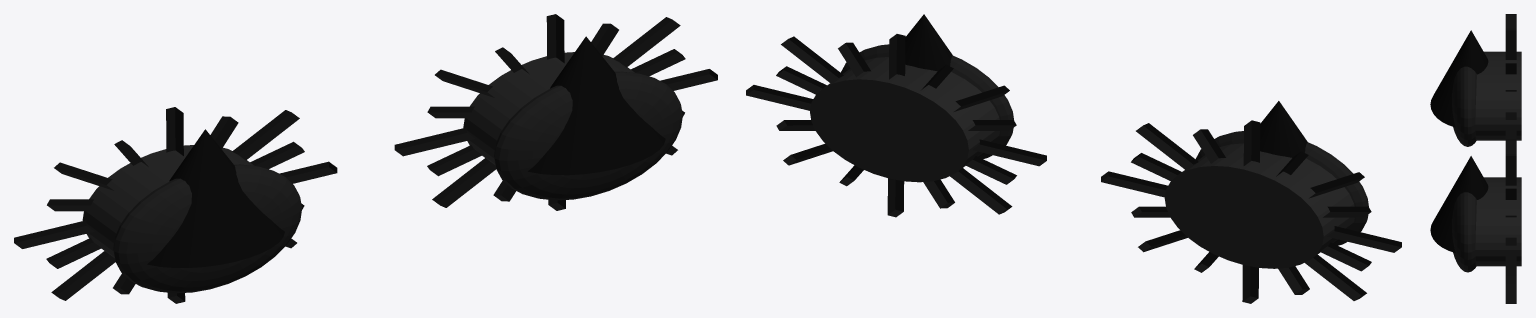
Rendered from Cooker Unit (Oven Buttons 1).fbx.
3 renders of one model, left to right at view 1: azimuth 30°, elevation 25°; view 2: azimuth 150°, elevation 25°; view 3: azimuth 270°, elevation 25°, orthographic. The views are drawn at different scales.
Visible parts, largest first — view 1: Cooker Buttons.001, Cooker Buttons.002; view 2: Cooker Buttons.001, Cooker Buttons.002; view 3: Cooker Buttons.002, Cooker Buttons.001.
Boxes of the visible parts, x1=… form: Cooker Buttons.001: x1=14, y1=107, x2=337, y2=303; Cooker Buttons.002: x1=394, y1=14, x2=717, y2=210; Cooker Buttons.001: x1=1101, y1=101, x2=1401, y2=303; Cooker Buttons.002: x1=746, y1=14, x2=1046, y2=217; Cooker Buttons.002: x1=1430, y1=139, x2=1521, y2=303; Cooker Buttons.001: x1=1430, y1=14, x2=1521, y2=146.
Bounding box in the file's own units: 0.1863 × 0.0493 × 0.0313.
Materials: 22 (2 with a texture image).
